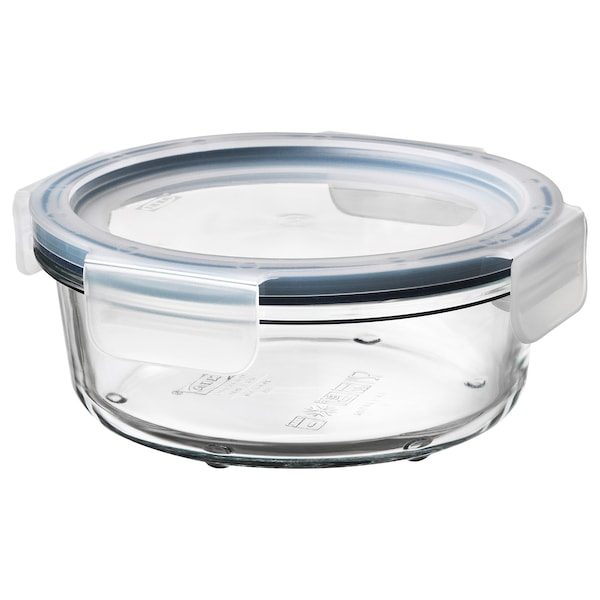plastic_bottle: (5, 122, 596, 482)
